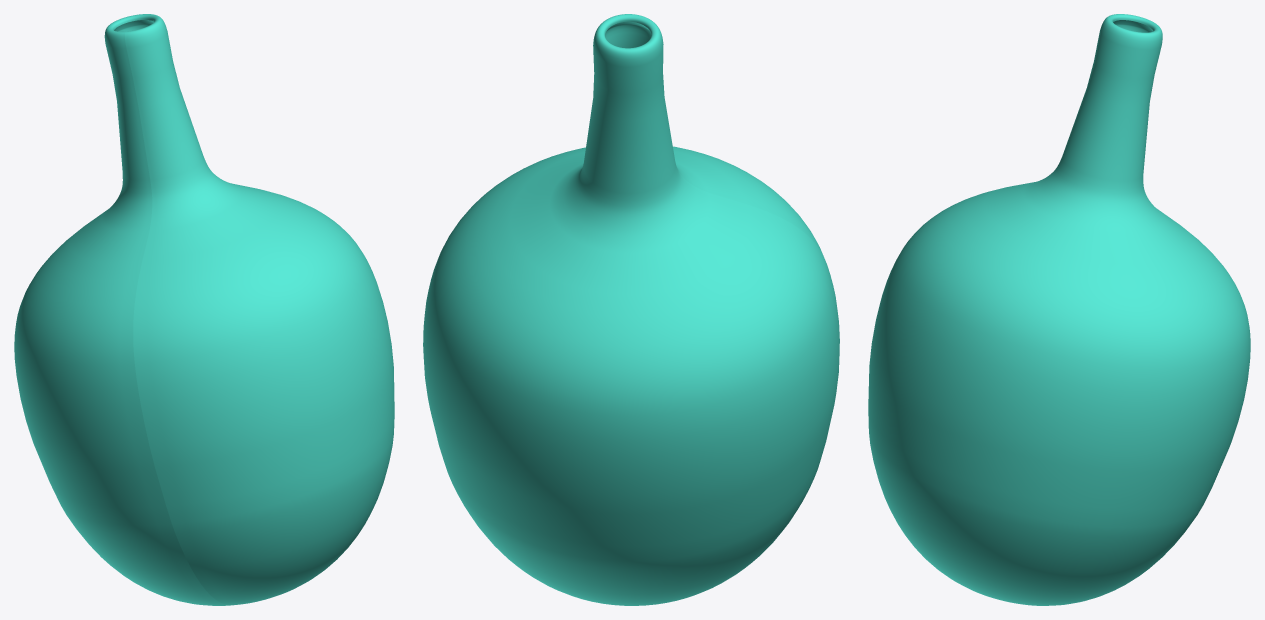
The model's file is asset.glb.
The picture shows the model from 3 angles, left to right: view 1: azimuth 30°, elevation 25°; view 2: azimuth 150°, elevation 25°; view 3: azimuth 270°, elevation 25°; orthographic projection. The views are drawn at different scales.
Visible parts, largest first — view 1: base; view 2: base; view 3: base.
Part boxes in pixels (bbox=[...]): base: bbox=[14, 14, 394, 605]; base: bbox=[423, 14, 839, 605]; base: bbox=[868, 14, 1250, 605].
Bounding box in the file's own units: 0.1292 × 0.2077 × 0.1307.
3 materials, 3 textured.
